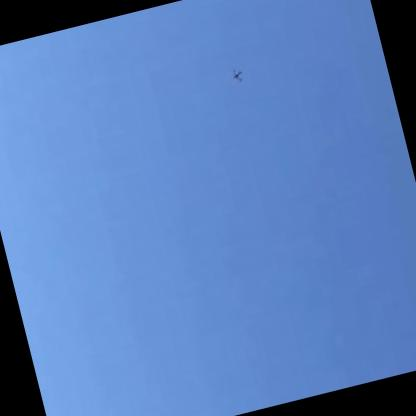plane: (228, 67, 244, 86)
